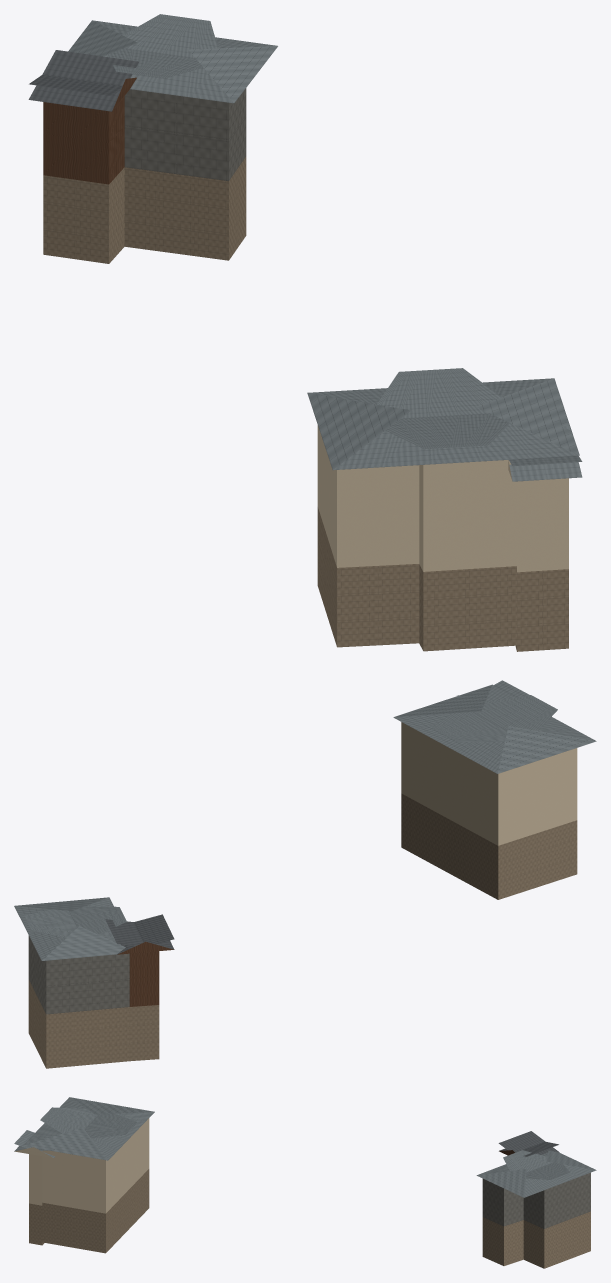
The model's file is bld_c34_-28_454.gltf.
3 views of the same model, one above another, from view 1: azimuth 30°, elevation 25°; view 2: azimuth 150°, elevation 25°; view 3: azimuth 270°, elevation 25° (orthographic). The views are drawn at different scales.
Visible parts, largest first — view 1: bld_c34_-28_454; view 2: bld_c34_-28_454; view 3: bld_c34_-28_454.
Part boxes in pixels (bbox=[...]): bld_c34_-28_454: bbox=[28, 14, 582, 651]; bld_c34_-28_454: bbox=[14, 680, 596, 1068]; bld_c34_-28_454: bbox=[14, 1097, 596, 1268].
Size of the model in its own units: 26.88 by 13.6 by 67.78.
8 materials, 8 textured.
